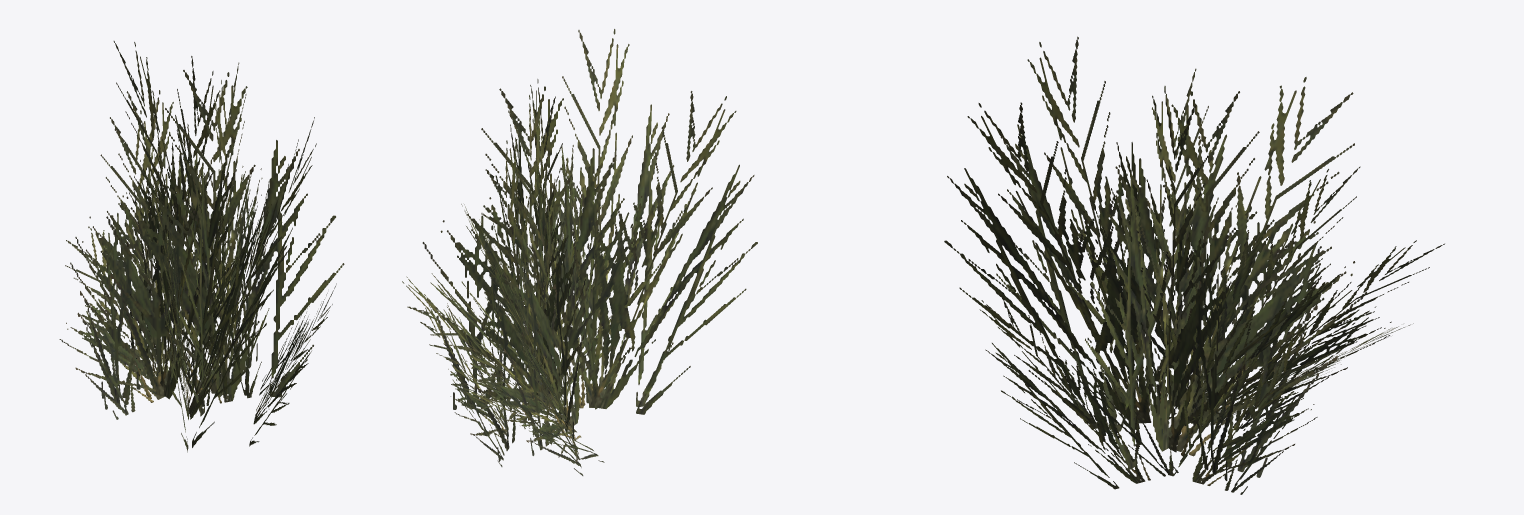
File: wbush01.glb
3 views of the same model, side by side, from view 1: azimuth 30°, elevation 25°; view 2: azimuth 150°, elevation 25°; view 3: azimuth 270°, elevation 25° (orthographic). The views are drawn at different scales.
Visible parts, largest first — view 1: _wbush01; view 2: _wbush01; view 3: _wbush01.
Boxes of the visible parts, box(x1,y1,x2,y2) form: _wbush01: box(59, 41, 344, 452); _wbush01: box(402, 29, 757, 475); _wbush01: box(944, 36, 1444, 494).
Size of the model in its own units: 2.37 by 3.49 by 4.39.
1 material, 1 textured.
